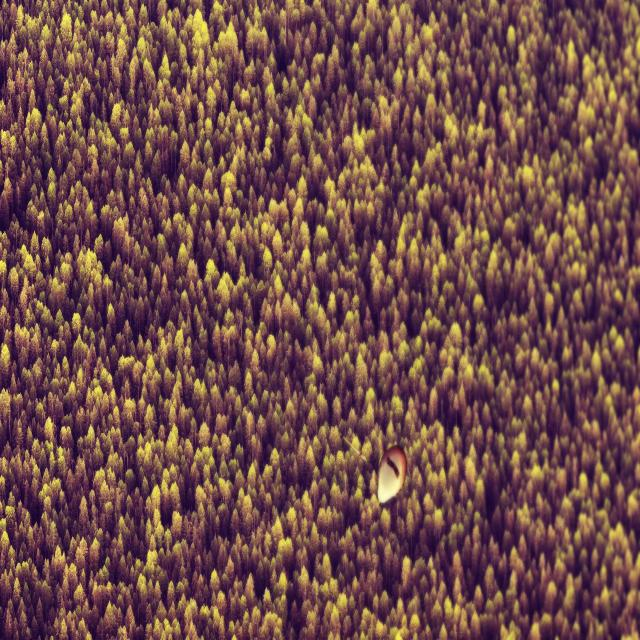airplane: (343, 438, 407, 504)
